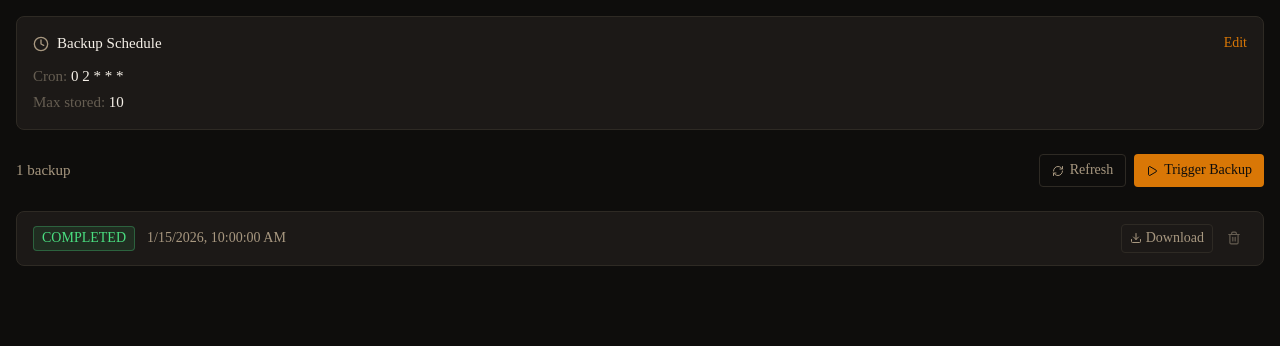
BackupsTab › shows error banner with fallback message when error has no message
The width and height of the screenshot is (1280, 346).
What coordinates should you click on to do the following:
click the button "Trigger Backup"
I would click on:
 (1199, 171)
Its box is [1134,154,1264,187].
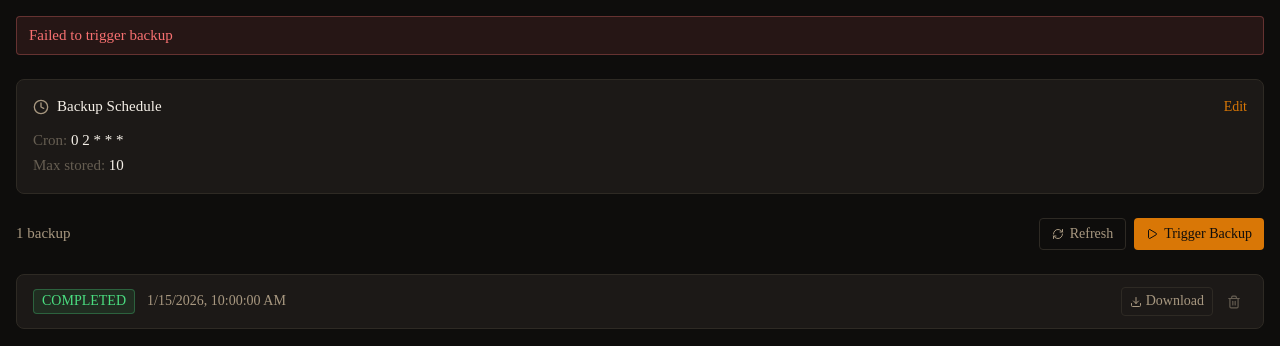
Expected: the text "Failed to trigger backup" is shown, [16,16,1264,55]
